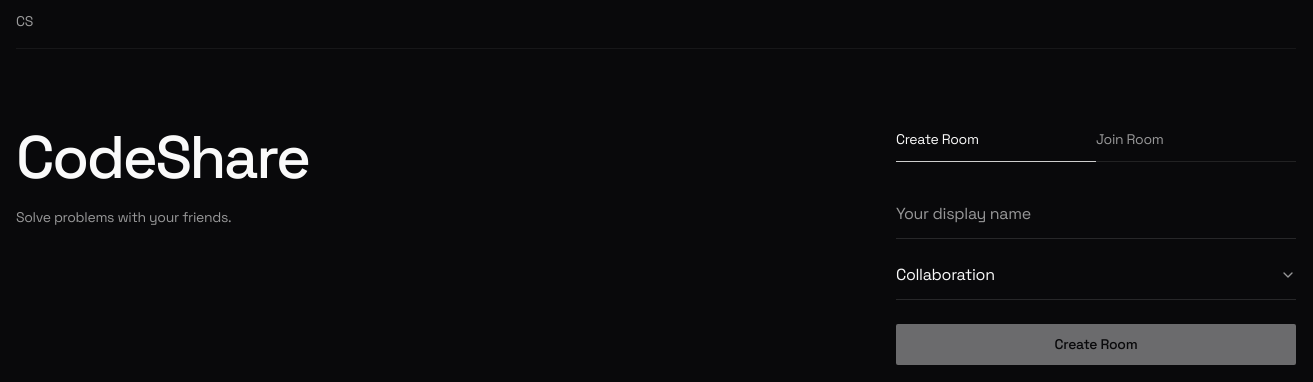
Test: HomePage › Create Room button is enabled when name is entered
Type "Alice" into the field with placeholder "Your display name".
click(1096, 220); type("Alice")  # box [896,202,1296,239]
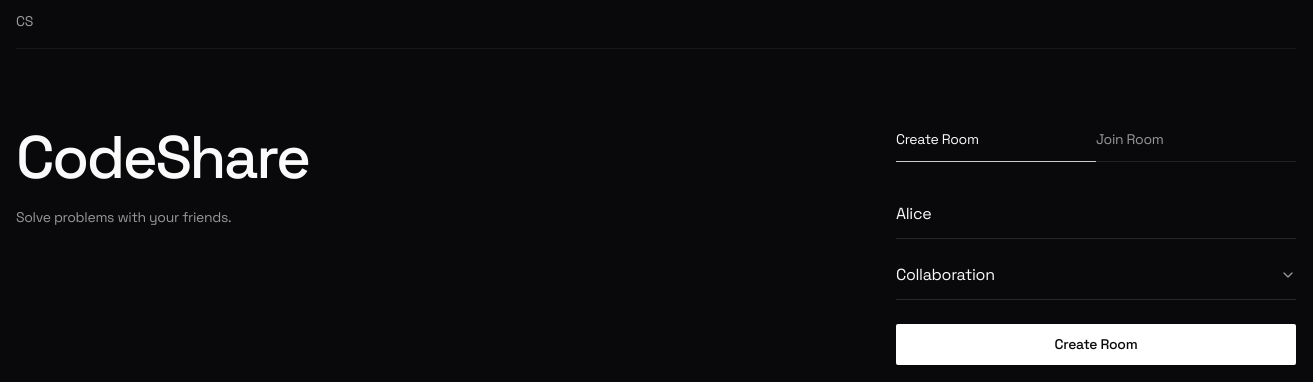
Now the button "Create Room" is enabled, box [896,324,1296,365]
